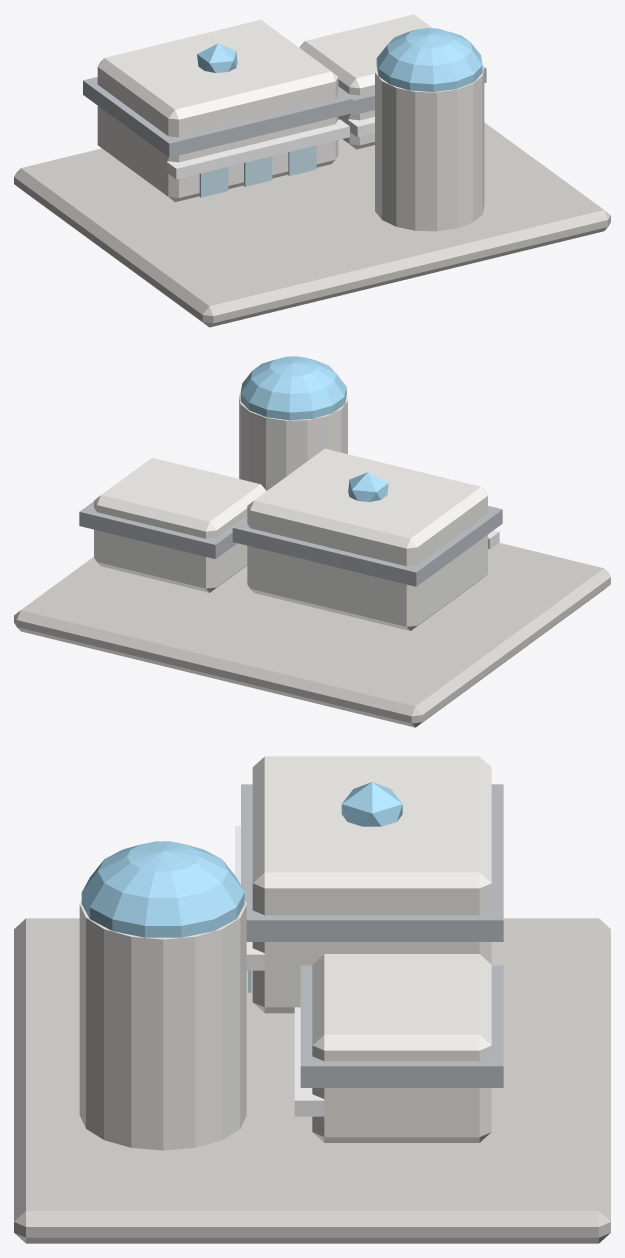
Rendered from research.glb.
3 renders of one model, top to bottom at view 1: azimuth 30°, elevation 25°; view 2: azimuth 150°, elevation 25°; view 3: azimuth 270°, elevation 25°, orthographic. The views are drawn at different scales.
Visible parts, largest first — view 1: main, crystal; view 2: main, crystal; view 3: main, crystal.
Boxes of the visible parts, <box> form: main: <box>14,14,610,327</box>; crystal: <box>197,43,237,72</box>; main: <box>14,356,610,727</box>; crystal: <box>348,472,388,501</box>; main: <box>14,756,610,1243</box>; crystal: <box>341,782,402,826</box>.
Size of the model in its own units: 1.2 by 0.548 by 1.
